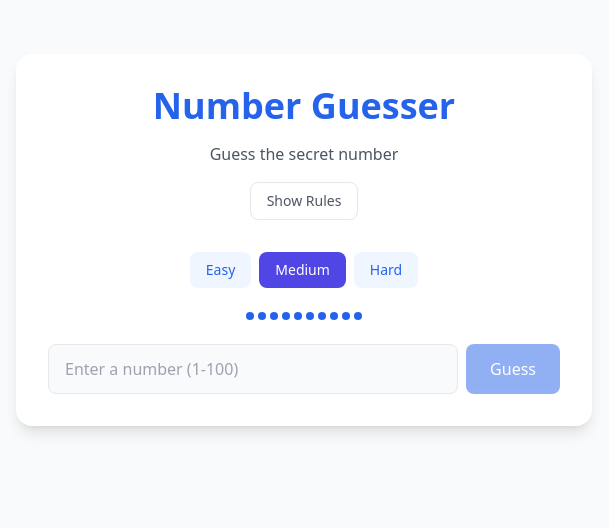
NumberGuesser › should handle correct guess
The width and height of the screenshot is (609, 528).
In the number field named "Number input": coordinates (253, 369) [48,344,458,394], type "50"
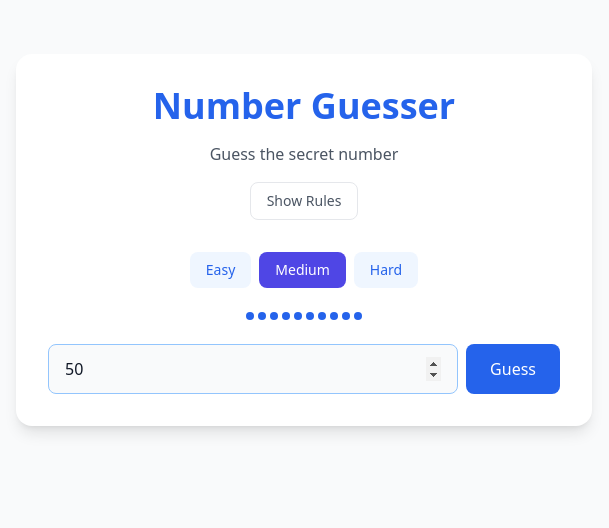
Note: Click the guess button
Click the button "Guess": coordinates (513, 369) [466,344,560,394]
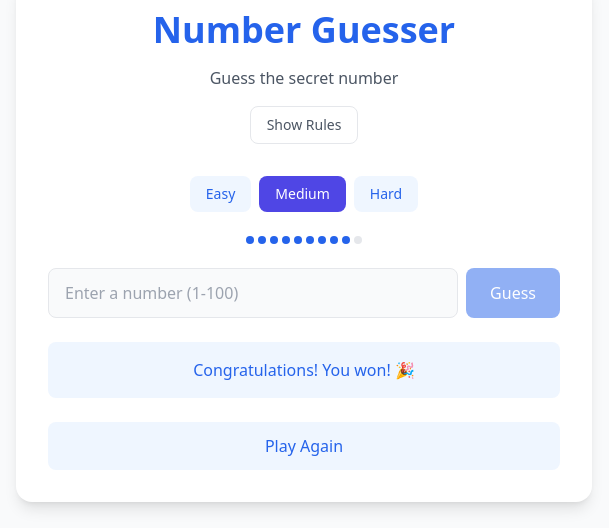
Expected: the text "Congratulations! You won! 🎉" is shown, [48,342,560,398]
